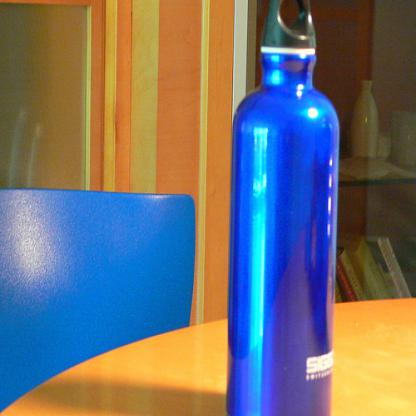bottle: (227, 1, 340, 415)
